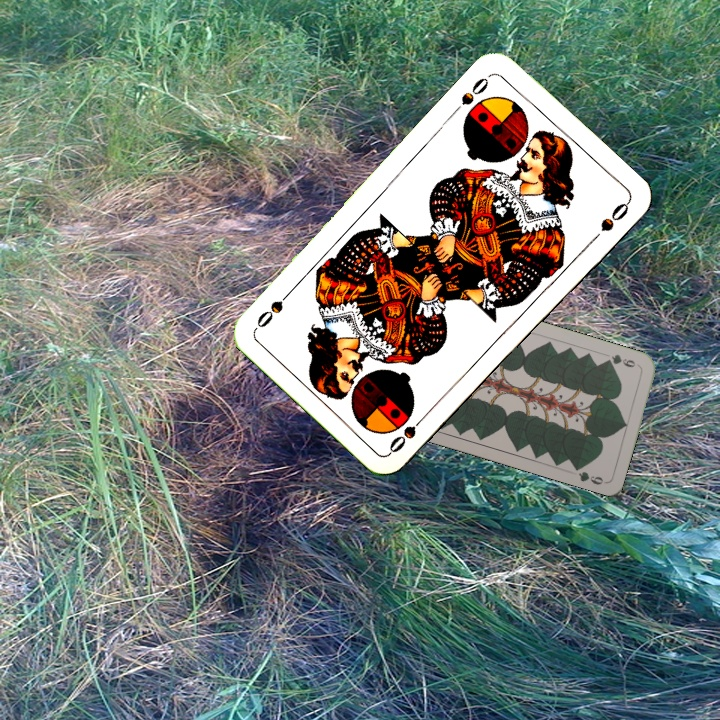G9: (601, 350, 642, 370)
SO: (385, 408, 431, 456), (457, 70, 494, 108)
